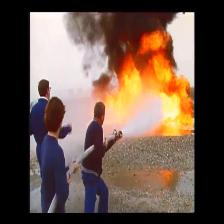fire: (100, 30, 193, 137)
smoke: (64, 11, 184, 78)
